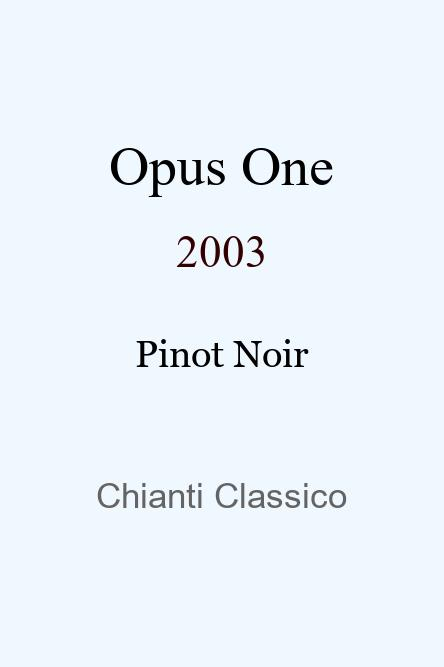brand: (109, 135, 334, 184)
region: (96, 476, 347, 501)
variety: (135, 332, 309, 360)
vintage: (176, 226, 268, 257)
